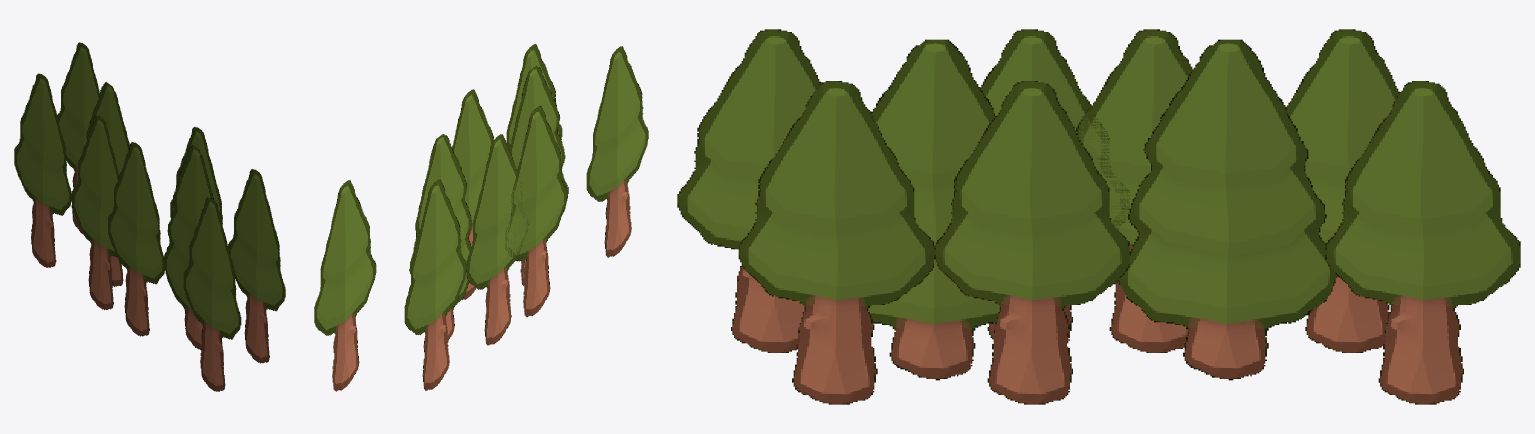
File: tree 01.gltf
3 renders of one model, left to right at view 1: azimuth 30°, elevation 25°; view 2: azimuth 150°, elevation 25°; view 3: azimuth 270°, elevation 25°, orthographic. The views are drawn at different scales.
Bounding box in the file's own units: 5 × 16 × 34.5.
Materials: 2 (2 with a texture image).
